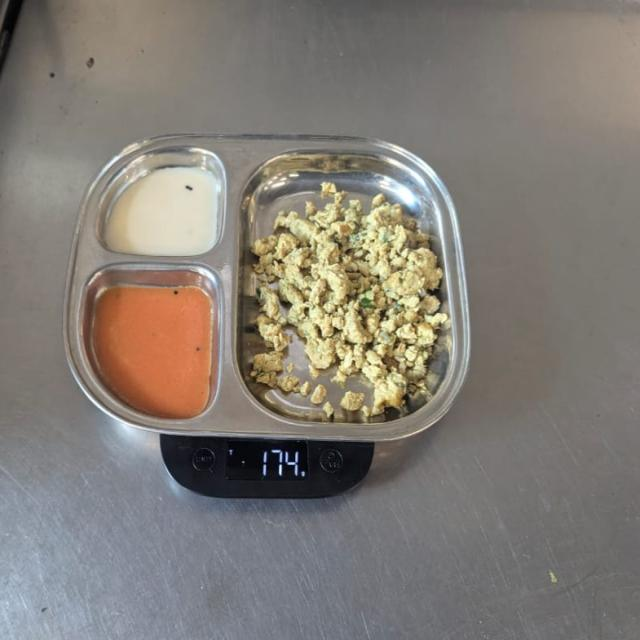Chutney: (88, 272, 218, 423), (100, 165, 225, 261)
Egg Bhurji: (242, 177, 444, 424)
